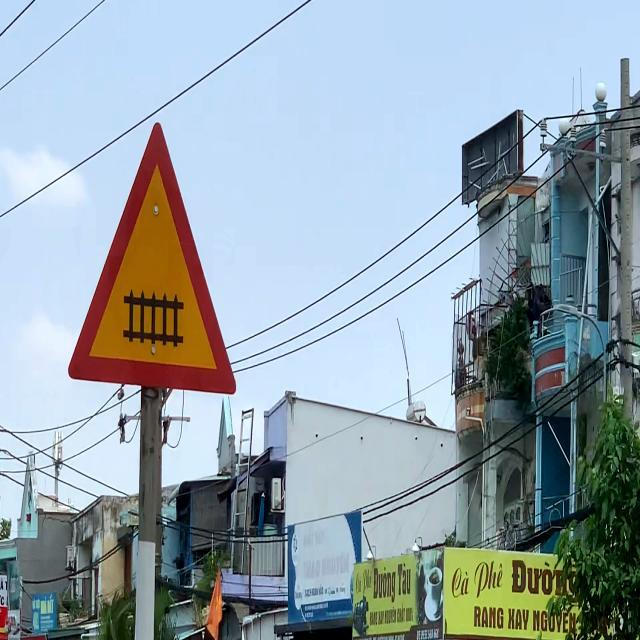W-210: (65, 117, 238, 396)
